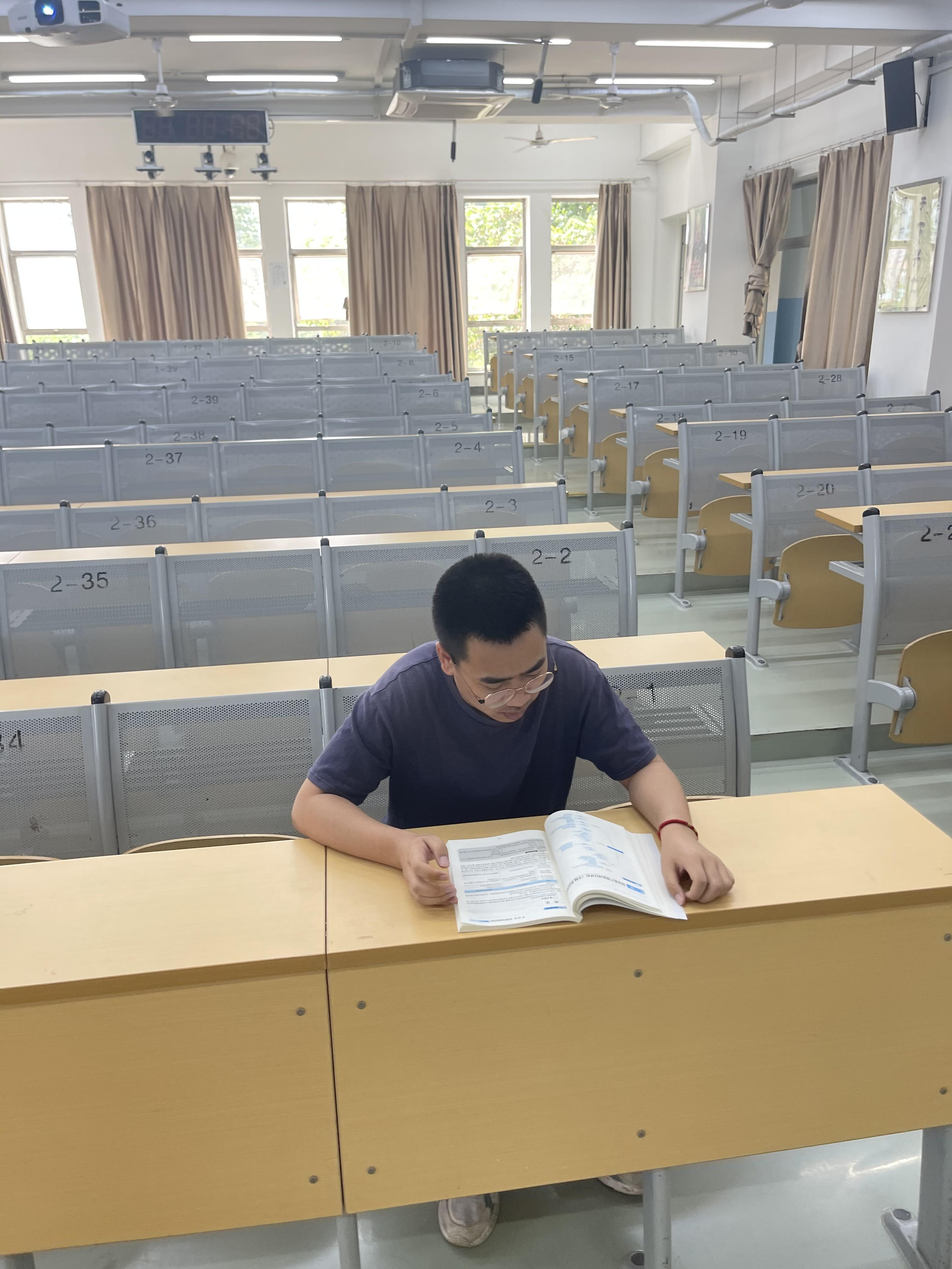study: (292, 553, 737, 919)
